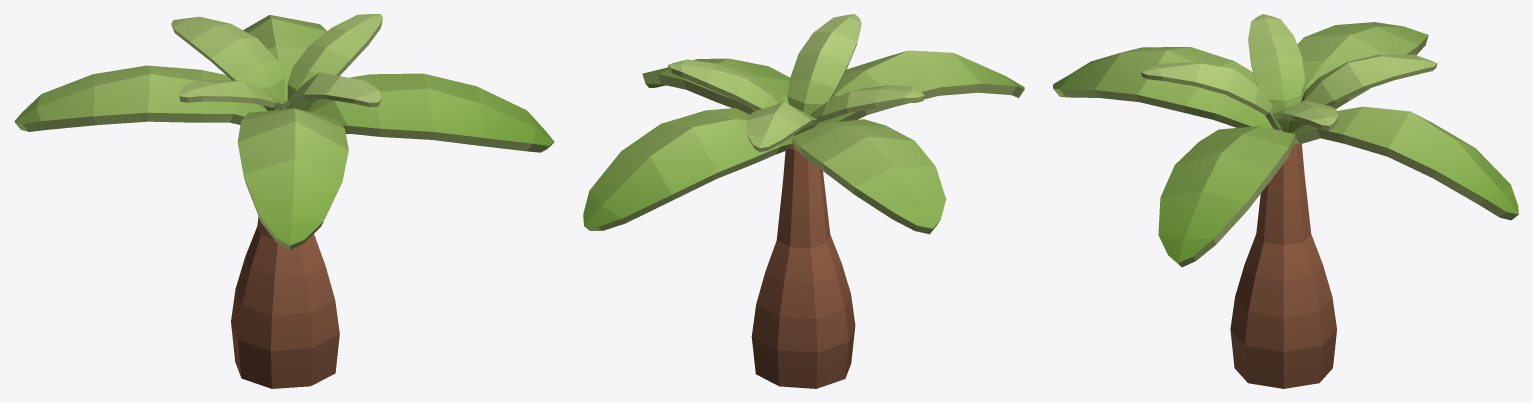
Rendered from palm-tree-small-3.glb.
The picture shows the model from 3 angles, left to right: view 1: azimuth 30°, elevation 25°; view 2: azimuth 150°, elevation 25°; view 3: azimuth 270°, elevation 25°; orthographic projection. The views are drawn at different scales.
Parts seen in each view (by area): view 1: palm tree small 3; view 2: palm tree small 3; view 3: palm tree small 3.
Part boxes in pixels (<box>): palm tree small 3: <box>14,14,554,388</box>; palm tree small 3: <box>583,14,1024,388</box>; palm tree small 3: <box>1053,14,1518,388</box>.
Size of the model in its own units: 3.94 by 2.88 by 3.91.
Materials: 1 (1 with a texture image).
